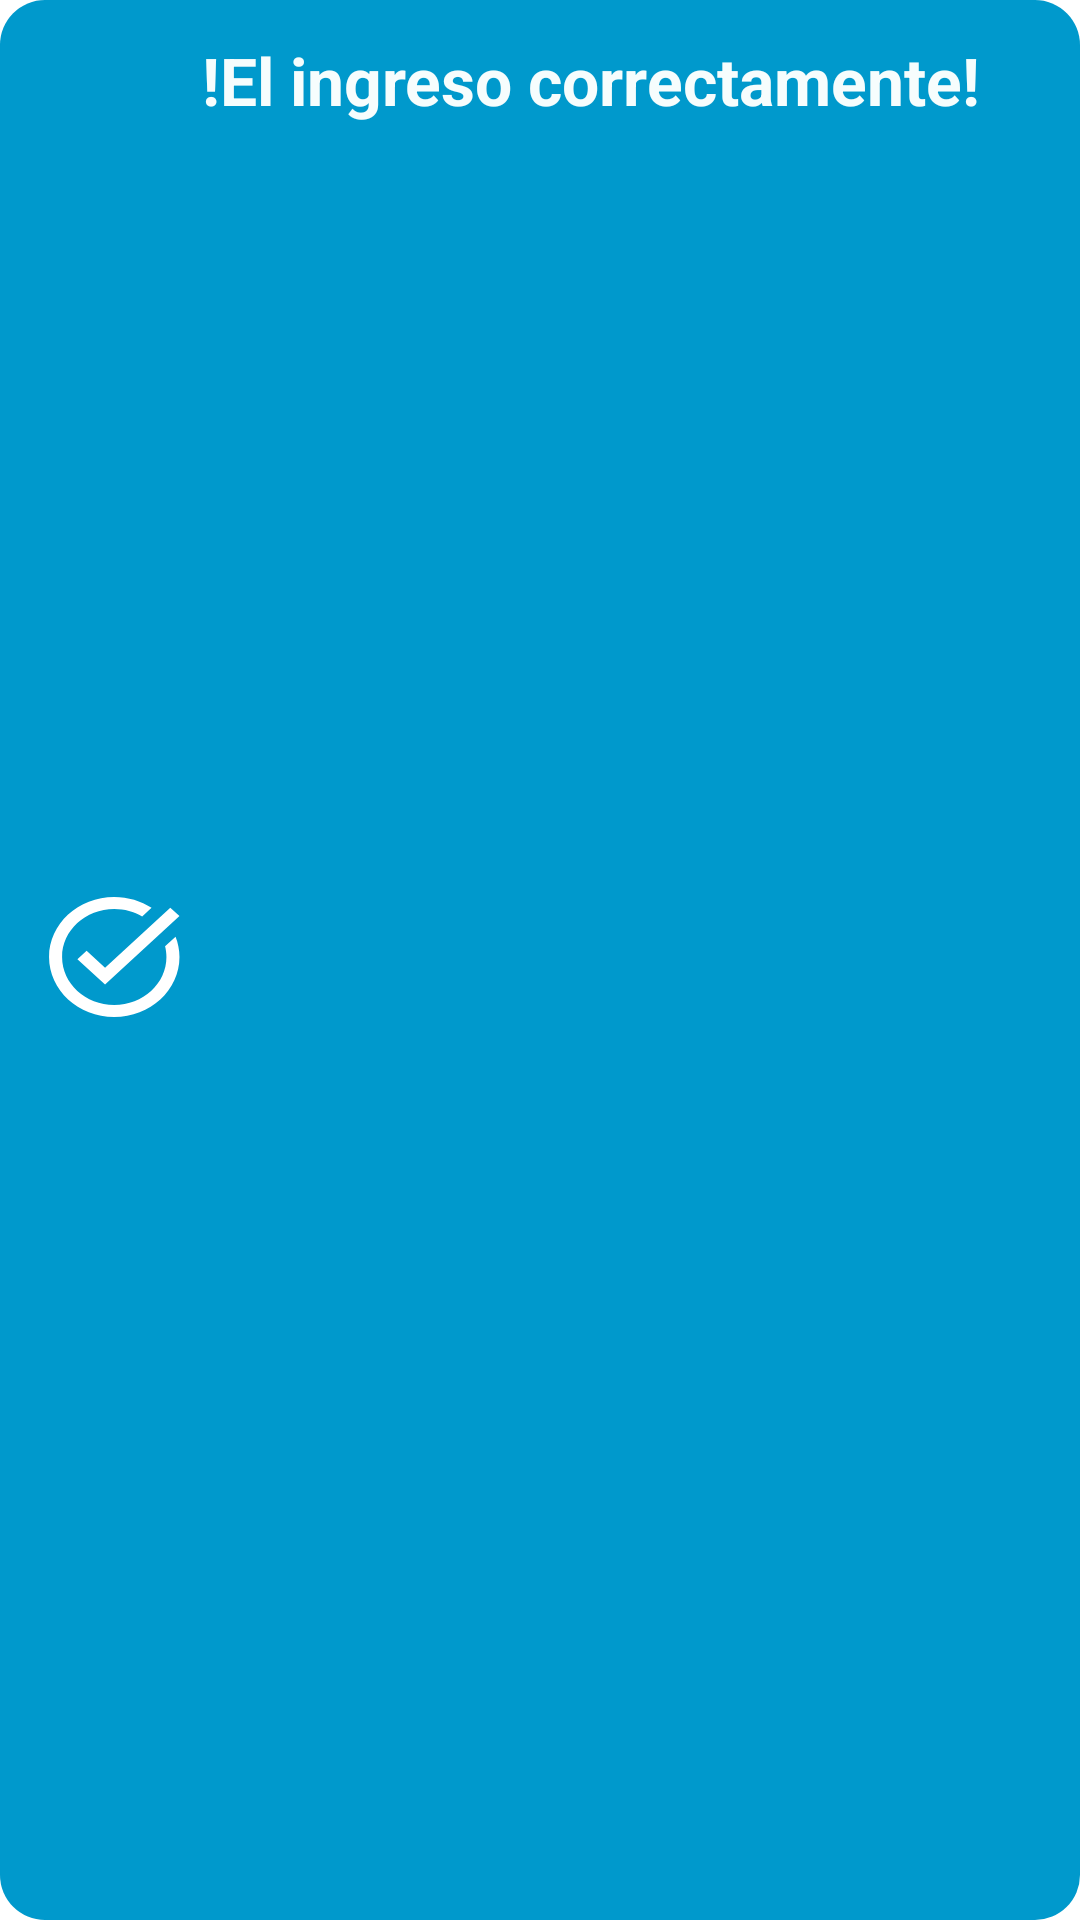

Point at icon controls on the screen. Image size 1080w x 1920h, points as [x,y].
check: [114,957]
